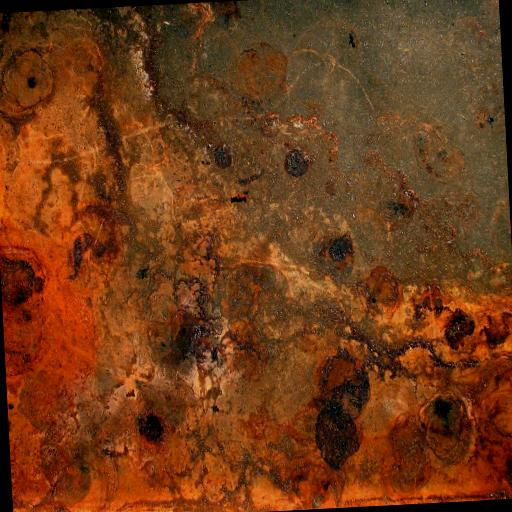segmentation: (0, 0, 512, 512)
